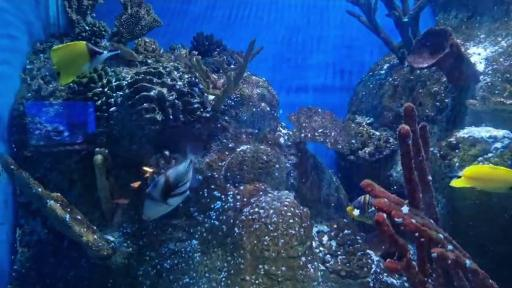Fish: (143, 145, 202, 220), (143, 158, 193, 220), (51, 42, 119, 85), (450, 165, 511, 192), (346, 194, 377, 225), (347, 195, 377, 224)
